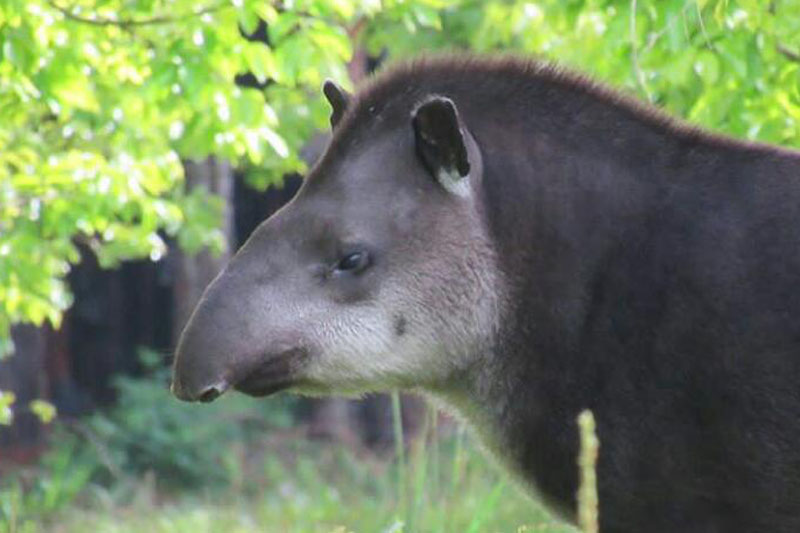Anta: (168, 48, 790, 518)
